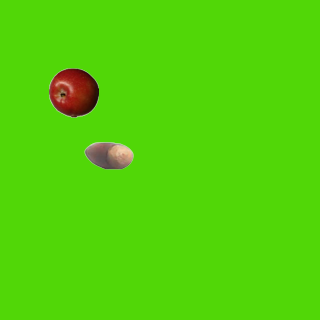Apple Braeburn: (48, 67, 98, 117)
Hazelnut: (83, 130, 133, 180)
